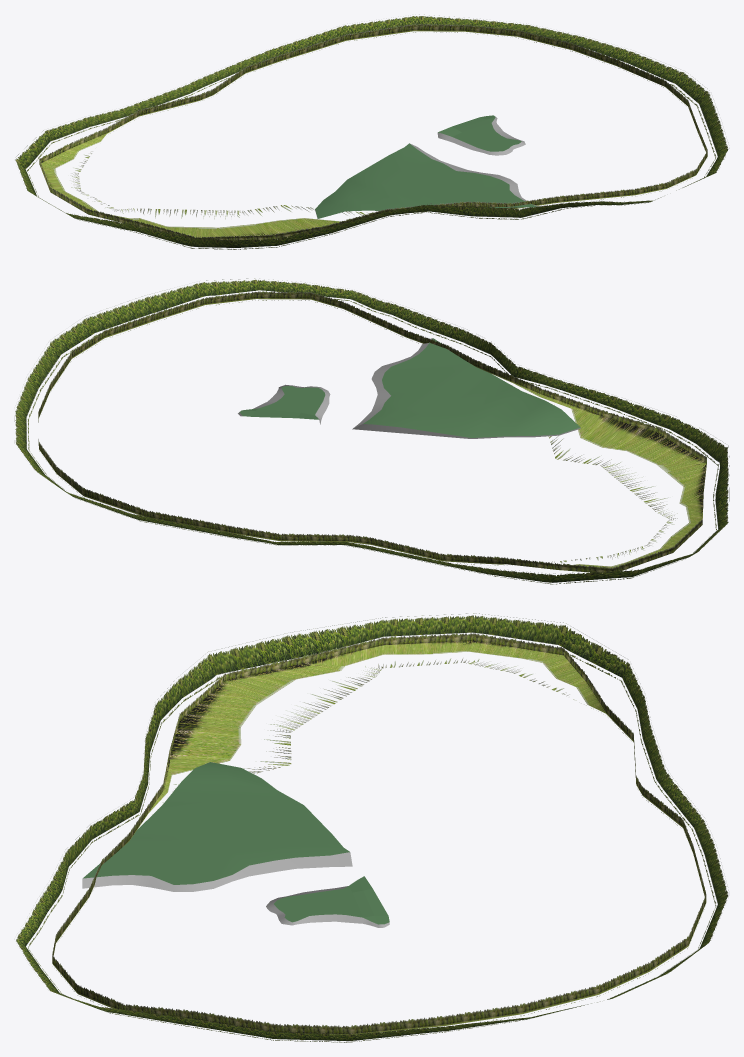
Rendered from background_rooky.fbx.
The picture shows the model from 3 angles, top to bottom: view 1: azimuth 30°, elevation 25°; view 2: azimuth 150°, elevation 25°; view 3: azimuth 270°, elevation 25°; orthographic projection. The views are drawn at different scales.
Visible parts, largest first — view 1: polySurface6; view 2: polySurface6; view 3: polySurface6.
Part boxes in pixels (x1=…): polySurface6: x1=15, y1=14, x2=729, y2=249; polySurface6: x1=14, y1=278, x2=729, y2=584; polySurface6: x1=14, y1=613, x2=728, y2=1042.
Size of the model in its own units: 110371 by 3496 by 78933.
4 materials, 2 textured.
